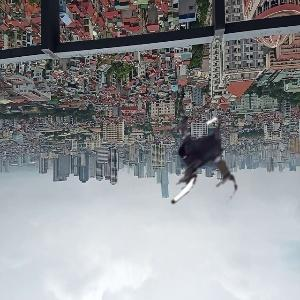drone: (131, 101, 252, 222)
